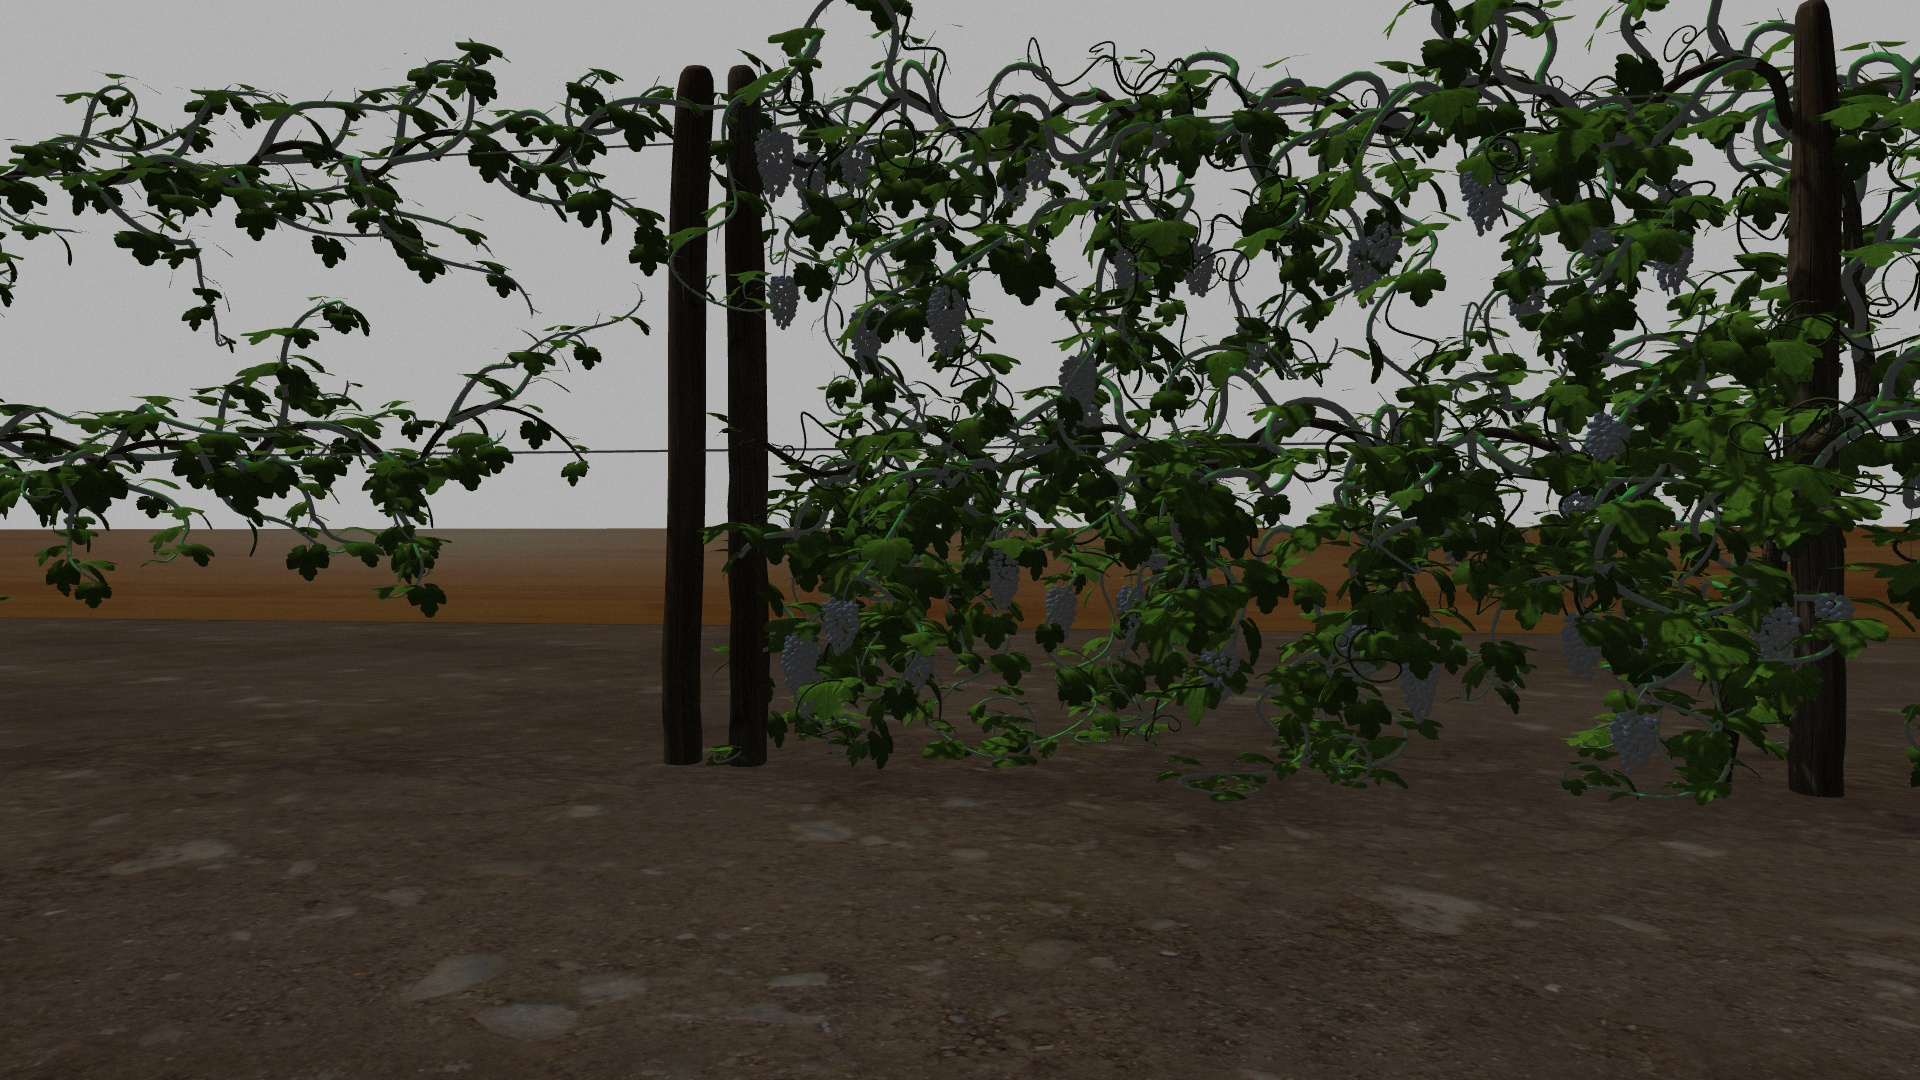grape: (1458, 164, 1509, 236), (1611, 708, 1662, 779), (1559, 611, 1607, 679), (753, 128, 793, 203), (927, 284, 967, 353), (1399, 659, 1440, 727), (1058, 351, 1100, 415), (1656, 231, 1695, 295), (1585, 410, 1631, 463), (1756, 607, 1803, 659), (823, 597, 862, 655), (1346, 240, 1379, 309), (848, 309, 884, 371), (781, 634, 818, 694), (989, 553, 1021, 615), (794, 152, 828, 207), (1184, 240, 1216, 299), (767, 276, 800, 331), (1047, 583, 1077, 640), (839, 146, 874, 191), (1371, 218, 1403, 268), (1816, 591, 1859, 626), (905, 647, 936, 695), (1203, 645, 1241, 680), (1116, 584, 1147, 626)
